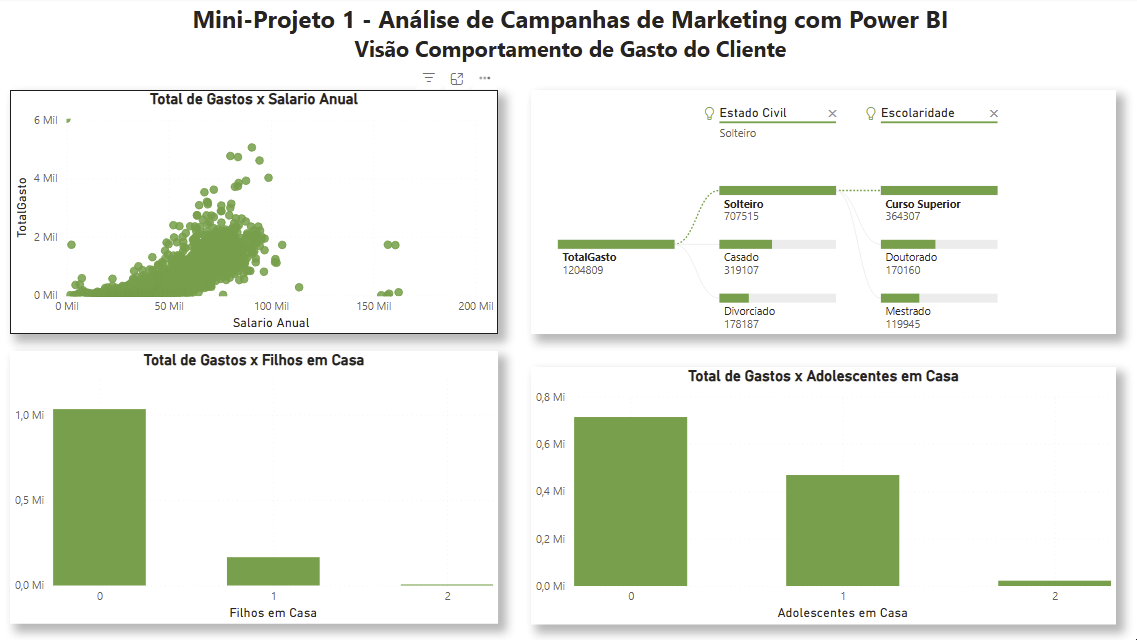

Layout of this report page (visuals, bound fields, positions):
{"tool":"powerbi","page":{"name":"Visão Comportamento","canvas":[1280,720],"ordinal":1},"visuals":[{"type":"scatterChart","title":"Total de Gastos x Salario Anual","fields":{"X":["DadosMarketing.Salario Anual"],"Y":["DadosMarketing.TotalGasto"]},"box":[15.1,103.6,543.9,272],"z":0},{"type":"textbox","box":[0,0,1280,84.2],"z":1},{"type":"clusteredColumnChart","title":"Total de Gastos x Filhos em Casa","fields":{"Y":["DadosMarketing.TotalGasto"],"Category":["DadosMarketing.Filhos em Casa"]},"box":[15.1,395,543.9,304.4],"z":2},{"type":"clusteredColumnChart","title":"Total de Gastos x Adolescentes em Casa","fields":{"Y":["DadosMarketing.TotalGasto"],"Category":["DadosMarketing.Adolescentes em Casa"]},"box":[595.8,412.3,651.9,287.1],"z":3},{"type":"decompositionTreeVisual","fields":{"Analyze":["DadosMarketing.TotalGasto"],"ExplainBy":["DadosMarketing.Estado Civil","DadosMarketing.Escolaridade"]},"box":[595.8,103.6,651.9,272],"z":4}]}

Visuals, with their boxes in screenshot pixels (x1, y1, x2, y2), scaled from the page's 1280x720 canvas onto the 1137x640 screenshot:
"Total de Gastos x Salario Anual" scatterChart: crop(13, 92, 497, 334)
textbox: crop(0, 0, 1136, 75)
"Total de Gastos x Filhos em Casa" clusteredColumnChart: crop(13, 351, 497, 622)
"Total de Gastos x Adolescentes em Casa" clusteredColumnChart: crop(529, 366, 1108, 622)
decompositionTreeVisual - DadosMarketing.TotalGasto x DadosMarketing.Estado Civil: crop(529, 92, 1108, 334)
